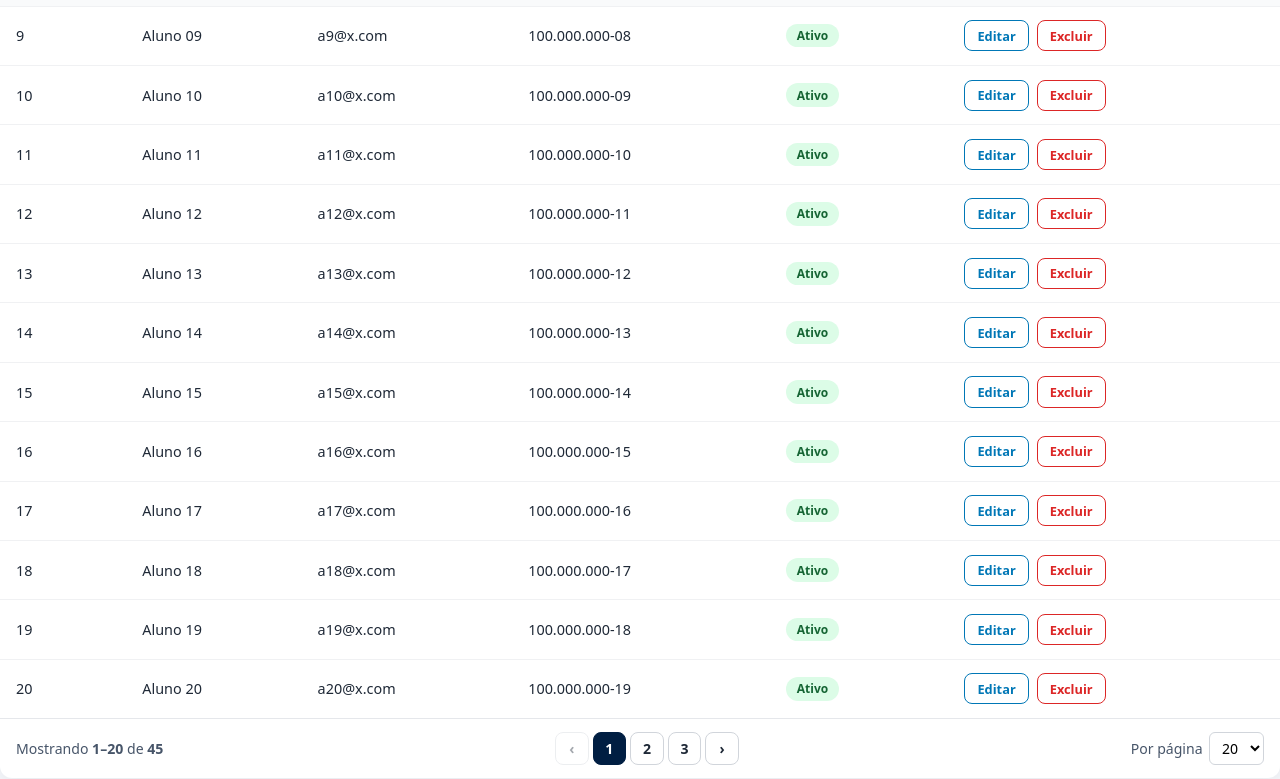
Test case: a busca volta para a primeira página e, com poucos resultados, a paginação some
This screenshot has width=1280, height=779.
(page scrolled)
Click the button "2": x=647, y=749 [630,732,664,766]
(page scrolled)
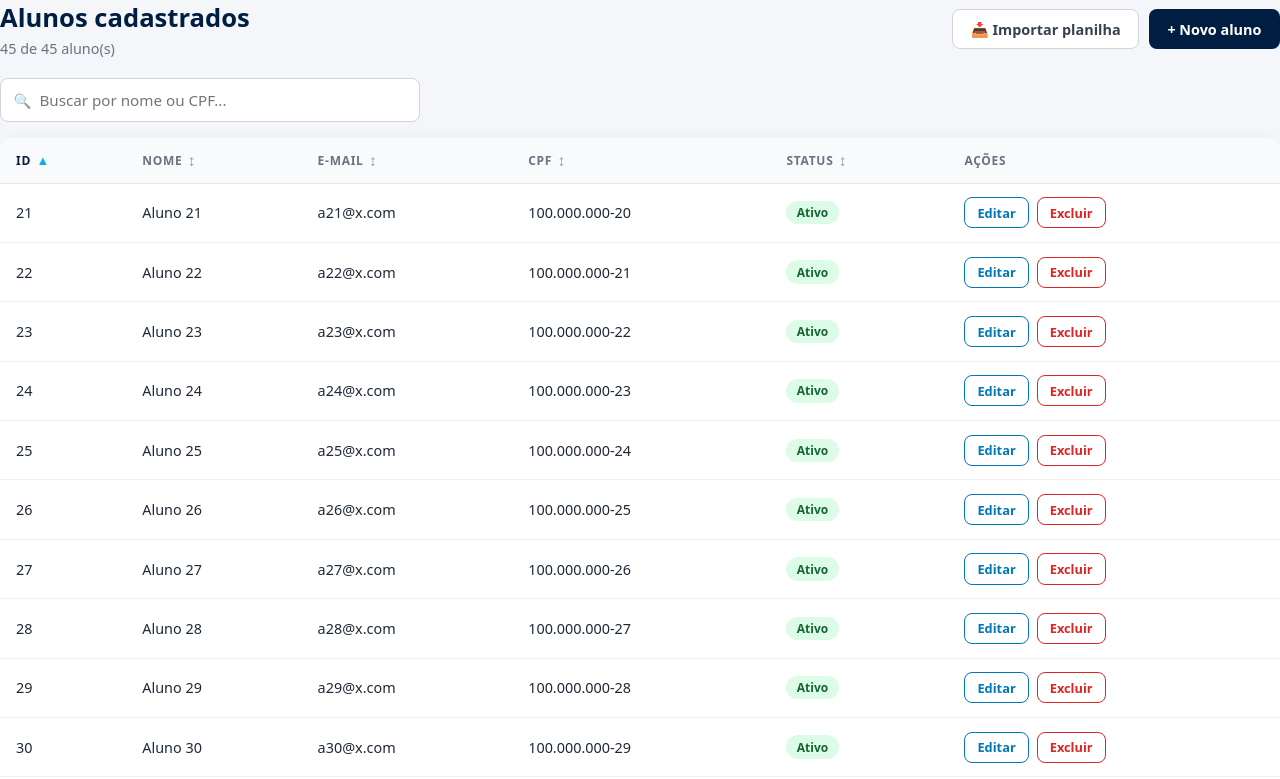
In the field with placeholder "Buscar por nome ou CPF...": x=210, y=100 [0,78,420,122], type "beatriz"
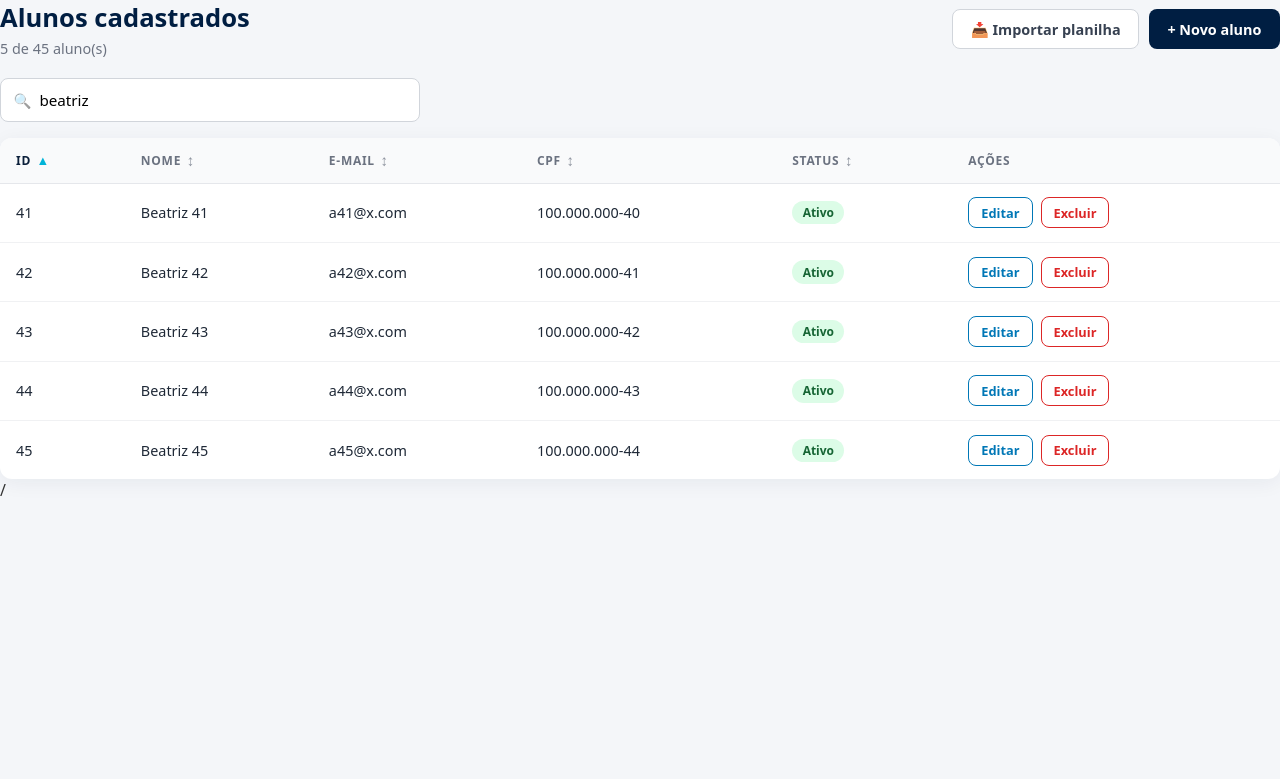
Expected: the text "Beatriz 41" is shown, [125,183,313,242]
